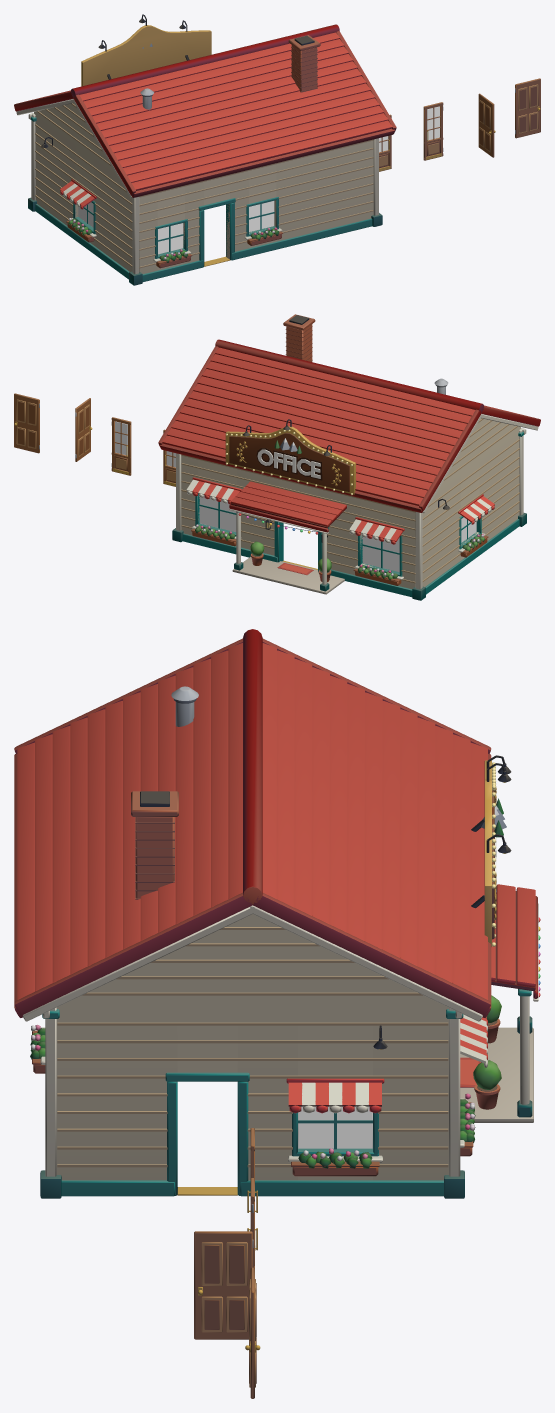
File: motel_kit_office.fbx
The picture shows the model from 3 angles, top to bottom: view 1: azimuth 30°, elevation 25°; view 2: azimuth 150°, elevation 25°; view 3: azimuth 270°, elevation 25°; orthographic projection. The views are drawn at different scales.
Visible parts, largest first — view 1: SM_Bld_OfficeV2_Roof, SM_Bld_OfficeV2_Walls, SM_Bld_OfficeV2_Trim, SM_Bld_OfficeV2_Sign, SM_Bld_OfficeV2_Windows, SM_Bld_OfficeV2_DoorBack, SM_Bld_OfficeV2_Flowers, SM_Bld_OfficeV2_DoorSide, SM_Bld_OfficeV2_DoorFR, SM_Bld_OfficeV2_Awning, SM_Bld_OfficeV2_DoorFR_Glass, SM_Bld_OfficeV2_DoorFL; view 2: SM_Bld_OfficeV2_Roof, SM_Bld_OfficeV2_Walls, SM_Bld_OfficeV2_Trim, SM_Bld_OfficeV2_Porch, SM_Bld_OfficeV2_Sign, SM_Bld_OfficeV2_Awning, SM_Bld_OfficeV2_Windows, SM_Bld_OfficeV2_Flowers, SM_Bld_OfficeV2_DoorBack, SM_Bld_OfficeV2_Glow, SM_Bld_OfficeV2_DoorSide, SM_Bld_OfficeV2_DoorFR (+2 smaller); view 3: SM_Bld_OfficeV2_Roof, SM_Bld_OfficeV2_Walls, SM_Bld_OfficeV2_Trim, SM_Bld_OfficeV2_Porch, SM_Bld_OfficeV2_DoorSide, SM_Bld_OfficeV2_Awning, SM_Bld_OfficeV2_Flowers, SM_Bld_OfficeV2_Windows, SM_Bld_OfficeV2_Sign, SM_Bld_OfficeV2_DoorBack.
Boxes of the visible parts, left/top/right/bottom form: SM_Bld_OfficeV2_Roof: left=14, top=24, right=396, bottom=197; SM_Bld_OfficeV2_Walls: left=34, top=103, right=373, bottom=273; SM_Bld_OfficeV2_Trim: left=16, top=14, right=382, bottom=285; SM_Bld_OfficeV2_Sign: left=81, top=25, right=211, bottom=86; SM_Bld_OfficeV2_Windows: left=78, top=201, right=274, bottom=254; SM_Bld_OfficeV2_DoorBack: left=515, top=78, right=540, bottom=138; SM_Bld_OfficeV2_Flowers: left=66, top=218, right=283, bottom=268; SM_Bld_OfficeV2_DoorSide: left=478, top=93, right=495, bottom=157; SM_Bld_OfficeV2_DoorFR: left=423, top=102, right=443, bottom=160; SM_Bld_OfficeV2_Awning: left=60, top=179, right=96, bottom=209; SM_Bld_OfficeV2_DoorFR_Glass: left=427, top=106, right=439, bottom=140; SM_Bld_OfficeV2_DoorFL: left=379, top=114, right=391, bottom=171; SM_Bld_OfficeV2_Roof: left=158, top=314, right=540, bottom=512; SM_Bld_OfficeV2_Walls: left=181, top=418, right=520, bottom=588; SM_Bld_OfficeV2_Trim: left=172, top=414, right=538, bottom=600; SM_Bld_OfficeV2_Porch: left=229, top=481, right=346, bottom=594; SM_Bld_OfficeV2_Sign: left=225, top=426, right=355, bottom=494; SM_Bld_OfficeV2_Awning: left=186, top=477, right=494, bottom=544; SM_Bld_OfficeV2_Windows: left=199, top=495, right=476, bottom=571; SM_Bld_OfficeV2_Flowers: left=191, top=524, right=488, bottom=585; SM_Bld_OfficeV2_DoorBack: left=14, top=393, right=39, bottom=453; SM_Bld_OfficeV2_Glow: left=226, top=429, right=445, bottom=534; SM_Bld_OfficeV2_DoorSide: left=75, top=398, right=92, bottom=461; SM_Bld_OfficeV2_DoorFR: left=111, top=417, right=131, bottom=475; SM_Bld_OfficeV2_Roof: left=14, top=629, right=491, bottom=1017; SM_Bld_OfficeV2_Walls: left=56, top=914, right=448, bottom=1195; SM_Bld_OfficeV2_Trim: left=22, top=755, right=511, bottom=1198; SM_Bld_OfficeV2_Porch: left=460, top=884, right=538, bottom=1122; SM_Bld_OfficeV2_DoorSide: left=194, top=1231, right=253, bottom=1339; SM_Bld_OfficeV2_Awning: left=286, top=1014, right=487, bottom=1113; SM_Bld_OfficeV2_Flowers: left=30, top=1024, right=475, bottom=1176; SM_Bld_OfficeV2_Windows: left=298, top=1106, right=372, bottom=1148; SM_Bld_OfficeV2_Sign: left=471, top=760, right=506, bottom=946; SM_Bld_OfficeV2_DoorBack: left=245, top=1267, right=260, bottom=1398.
Bounding box in the file's own units: 72.16 × 25.95 × 35.01.
